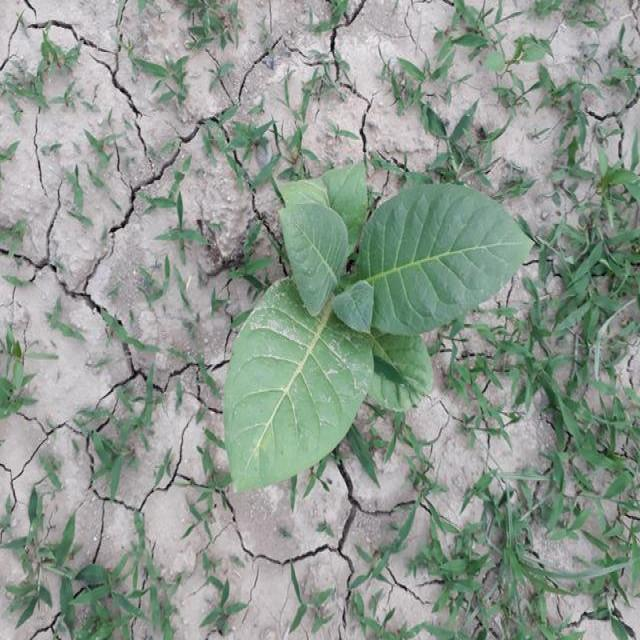crop: (216, 154, 529, 500)
